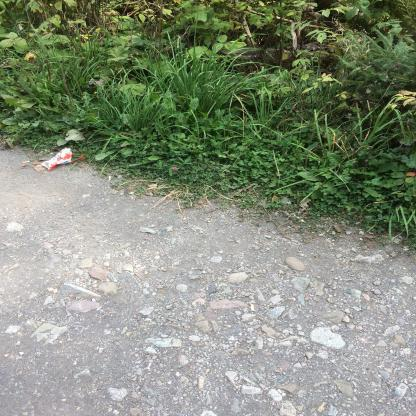trash: (40, 147, 87, 172)
